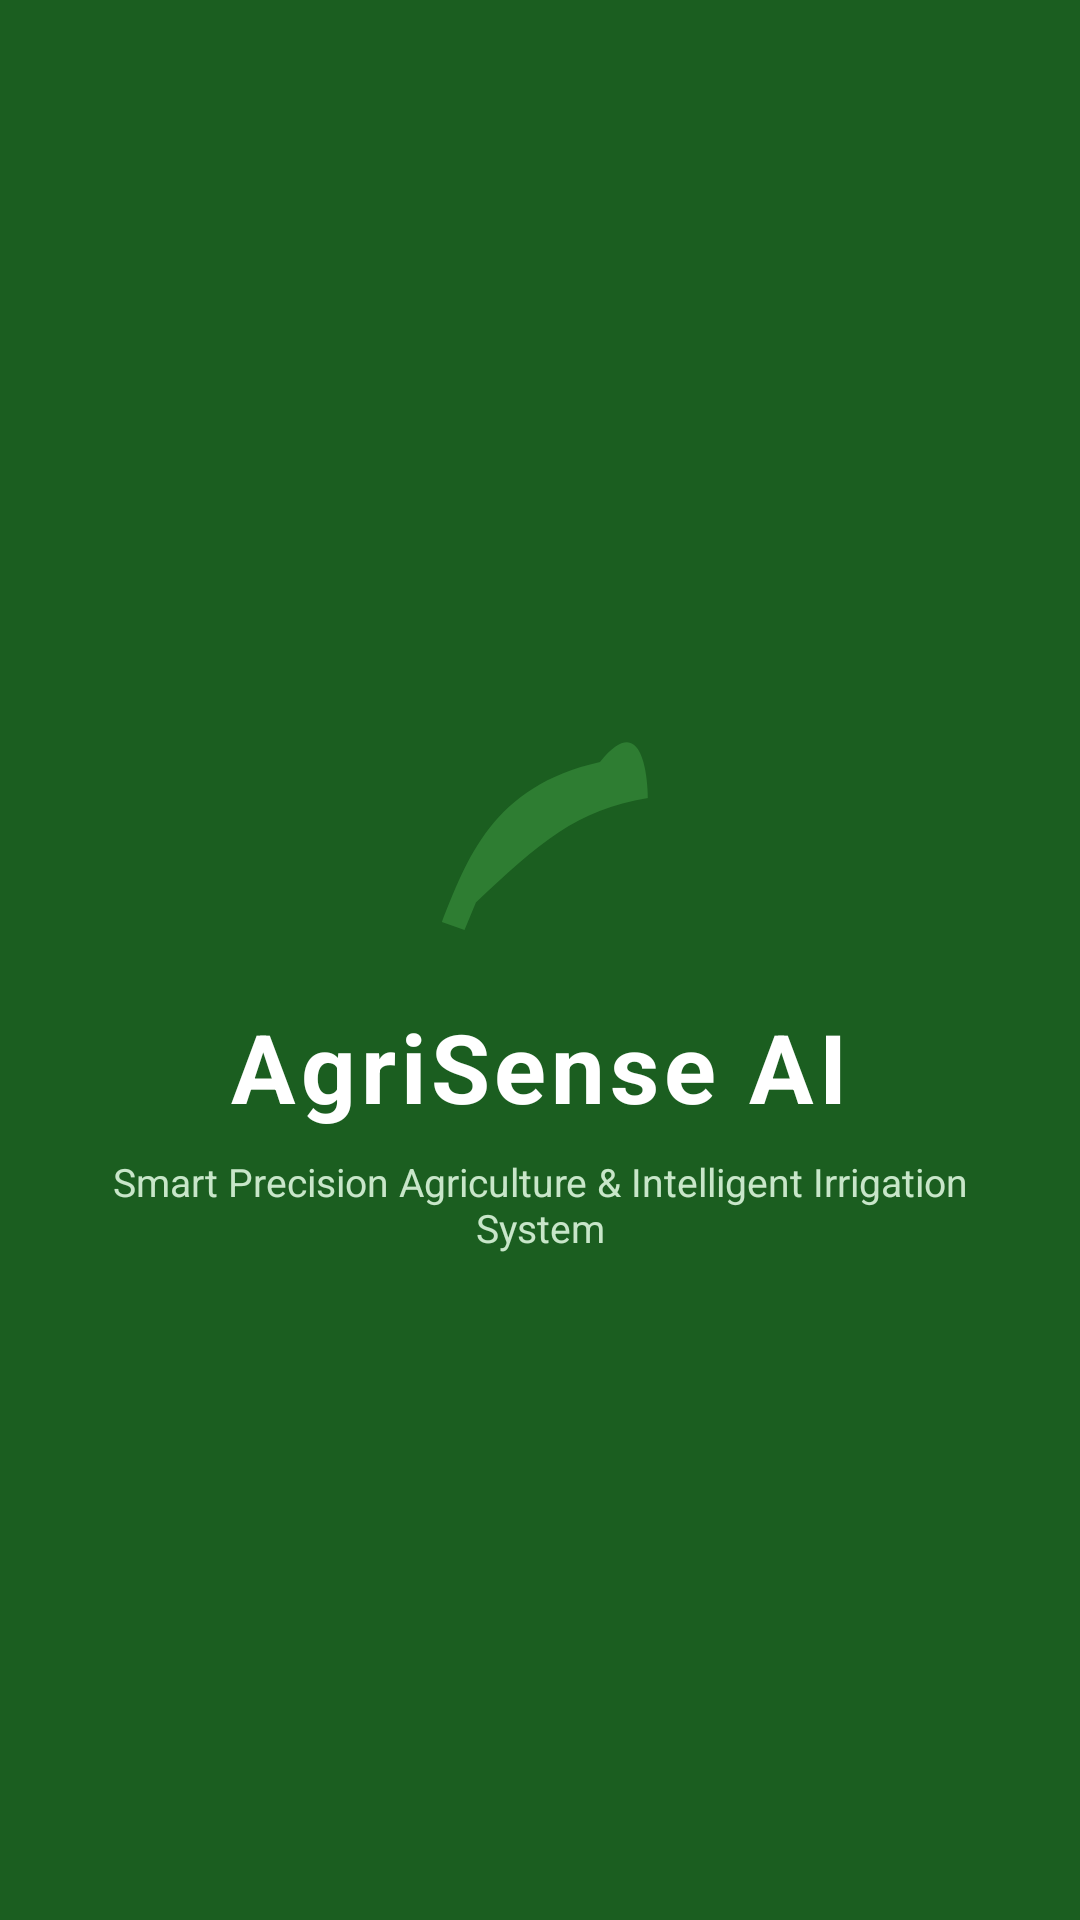

Icon bounding boxes for this 1080x1920 phone screenshot, format (x1, y1, x2, y2):
leaf: (442, 743, 647, 929)
